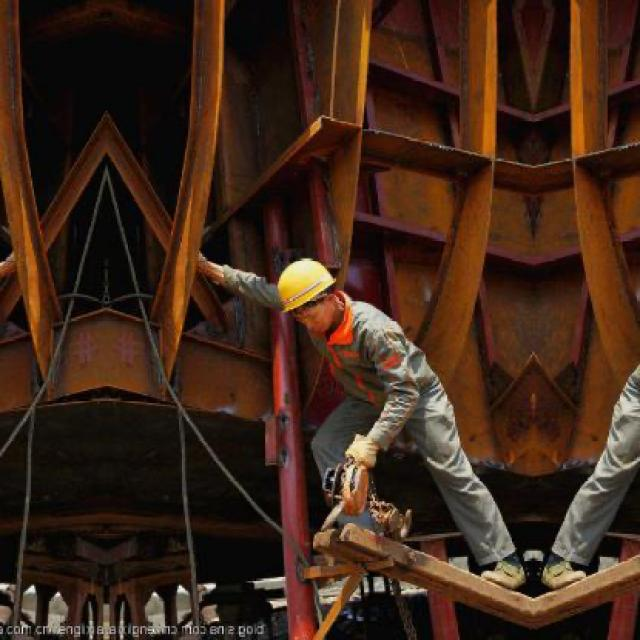helmet: (274, 249, 347, 342)
